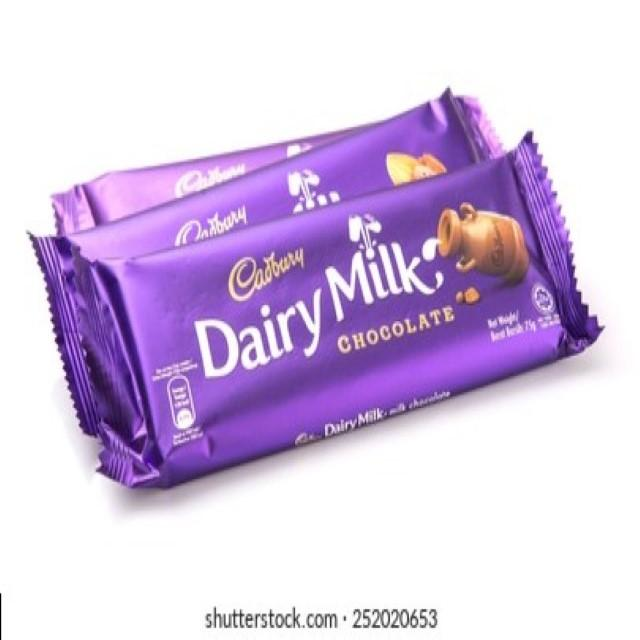cadbury_chocolate: (48, 92, 585, 490), (97, 157, 602, 488)
